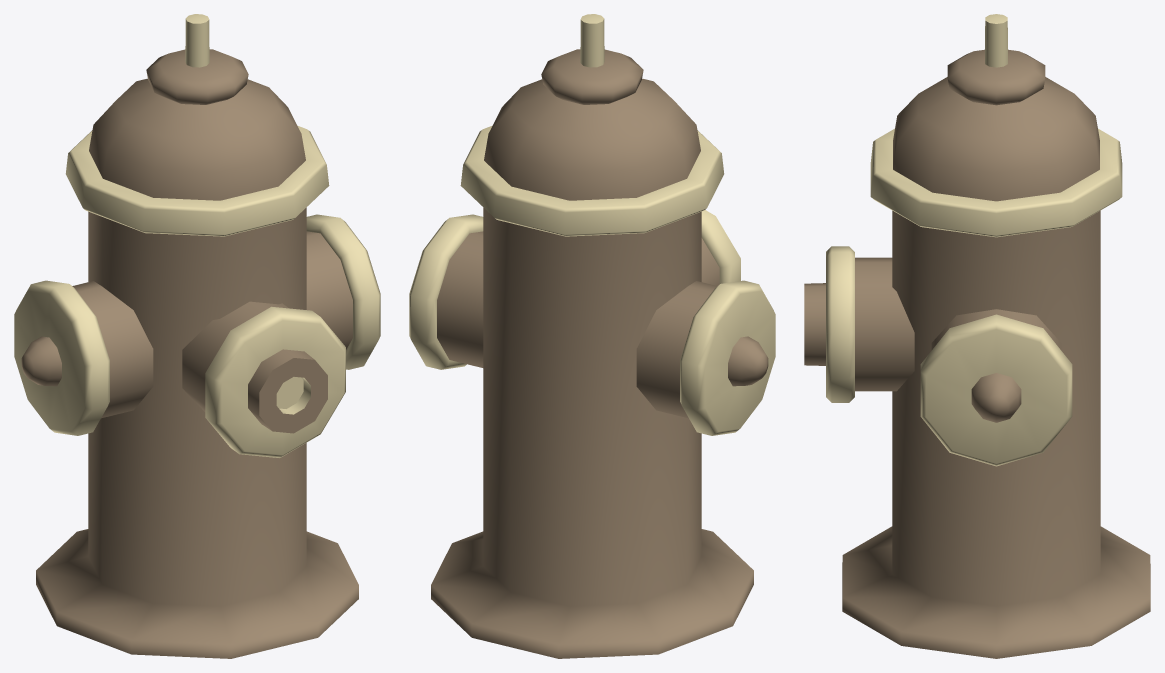
Rendered from Hydrant_MDL.fbx.
3 views of the same model, side by side, from view 1: azimuth 30°, elevation 25°; view 2: azimuth 150°, elevation 25°; view 3: azimuth 270°, elevation 25° (orthographic).
Visible parts, largest first — view 1: Hydrant_GEO; view 2: Hydrant_GEO; view 3: Hydrant_GEO.
Part boxes in pixels (x1,y1,x2,y2): Hydrant_GEO: (14,14,380,658); Hydrant_GEO: (409,14,775,658); Hydrant_GEO: (804,14,1150,658).
Bounding box in the file's own units: 78.62 × 124 × 67.84.
